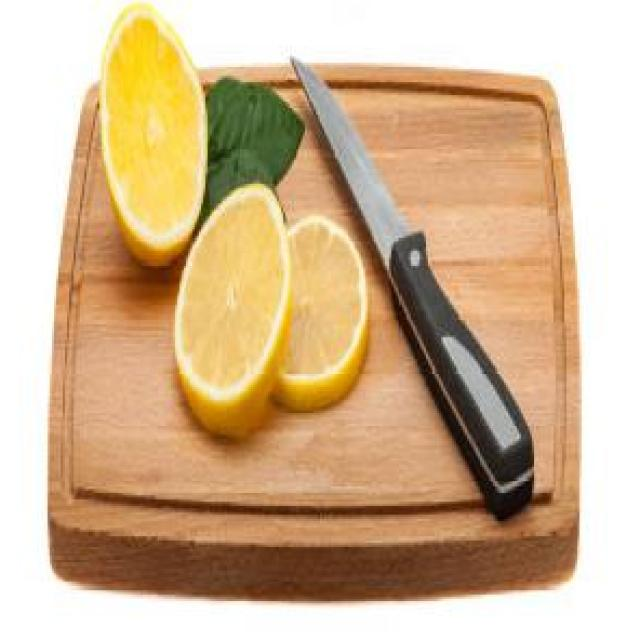knife: (291, 52, 534, 521)
